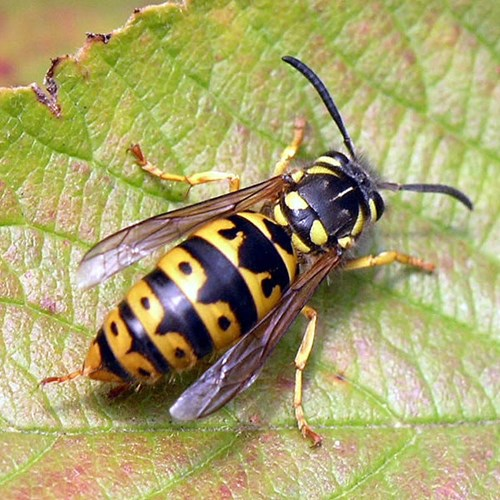chax: (31, 47, 486, 454)
